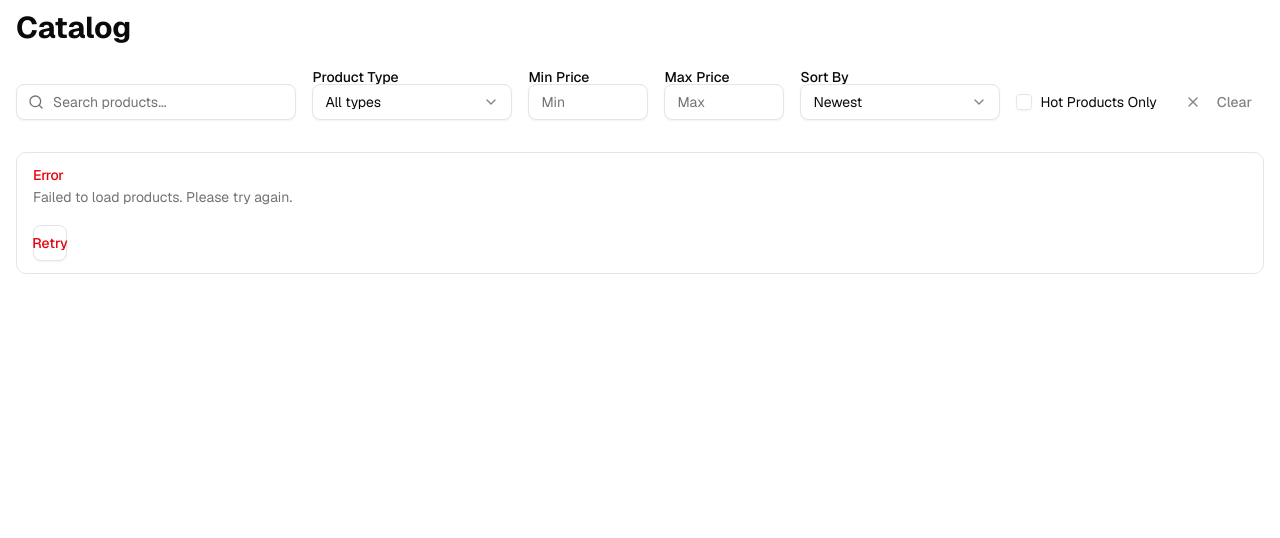
Scenario: CatalogPage › Error state › should refetch on retry button click
What coordinates should you click on to do the following:
click the button "Retry"
I would click on:
 (50, 243)
Its box is [33,225,67,261].
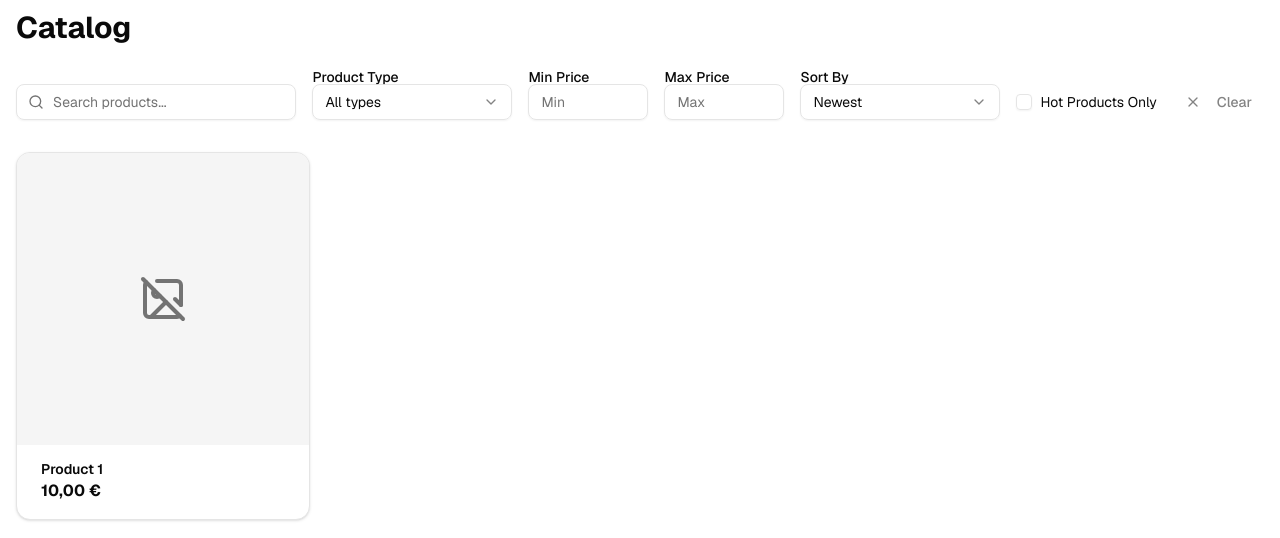
Now the text "Failed to load products" is gone
